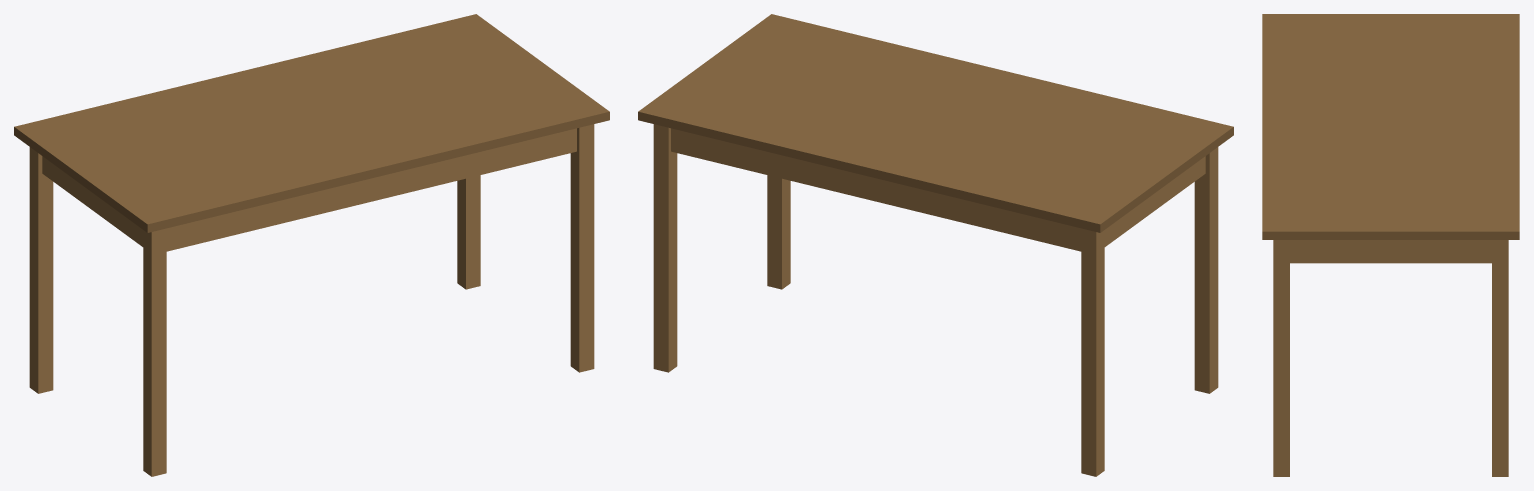
Rendered from HIN-DSK-wide.glb.
The picture shows the model from 3 angles, left to right: view 1: azimuth 30°, elevation 25°; view 2: azimuth 150°, elevation 25°; view 3: azimuth 270°, elevation 25°; orthographic projection. The views are drawn at different scales.
Parts seen in each view (by area): view 1: top:pbr, apron-f:pbr, leg-fr:pbr, leg-fl:pbr, leg-bl:pbr, leg-br:pbr, apron-l:pbr; view 2: top:pbr, apron-b:pbr, leg-br:pbr, leg-bl:pbr, leg-fl:pbr, leg-fr:pbr, apron-l:pbr; view 3: top:pbr, apron-r:pbr, leg-fr:pbr, leg-br:pbr.
Boxes of the visible parts, <box> form: top:pbr: <box>14,14,609,232</box>; apron-f:pbr: <box>166,128,576,251</box>; leg-fr:pbr: <box>570,124,594,372</box>; leg-fl:pbr: <box>143,228,166,476</box>; leg-bl:pbr: <box>29,147,53,393</box>; leg-br:pbr: <box>457,175,480,289</box>; apron-l:pbr: <box>42,156,143,246</box>; top:pbr: <box>638,14,1233,232</box>; apron-b:pbr: <box>671,128,1081,251</box>; leg-br:pbr: <box>653,124,677,372</box>; leg-bl:pbr: <box>1081,228,1104,476</box>; leg-fl:pbr: <box>1194,147,1218,393</box>; leg-fr:pbr: <box>767,175,790,289</box>; apron-l:pbr: <box>1104,156,1205,246</box>; top:pbr: <box>1262,14,1519,239</box>; apron-r:pbr: <box>1290,240,1491,263</box>; leg-fr:pbr: <box>1273,240,1289,476</box>; leg-br:pbr: <box>1492,240,1508,476</box>.
Size of the model in its own units: 1.4 by 0.75 by 0.7.
